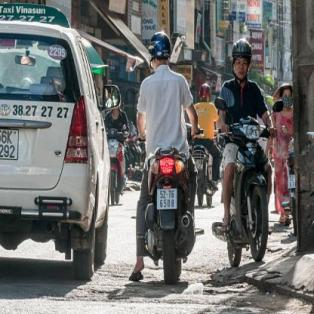Motocicleta: (133, 132, 201, 287), (220, 114, 276, 262)
